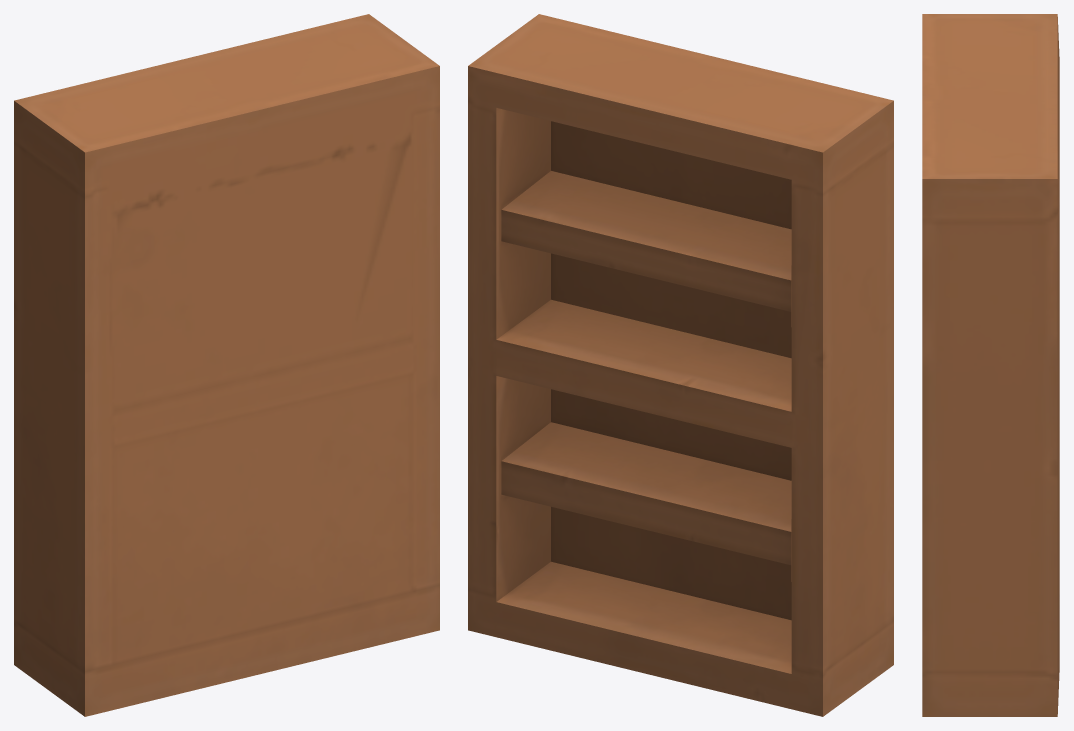
File: Prfb_Indoors_Study_Shelf.fbx
The picture shows the model from 3 angles, left to right: view 1: azimuth 30°, elevation 25°; view 2: azimuth 150°, elevation 25°; view 3: azimuth 270°, elevation 25°; orthographic projection. The views are drawn at different scales.
Visible parts, largest first — view 1: Mat_Indoors_Study_01_1; view 2: Mat_Indoors_Study_01_1; view 3: Mat_Indoors_Study_01_1.
Boxes of the visible parts, box(x1,y1,x2,y2) form: Mat_Indoors_Study_01_1: box(14, 14, 439, 716); Mat_Indoors_Study_01_1: box(468, 14, 893, 716); Mat_Indoors_Study_01_1: box(922, 14, 1059, 716).
Bounding box in the file's own units: 1.77 × 2.68 × 0.6209.
Materials: 1 (1 with a texture image).
